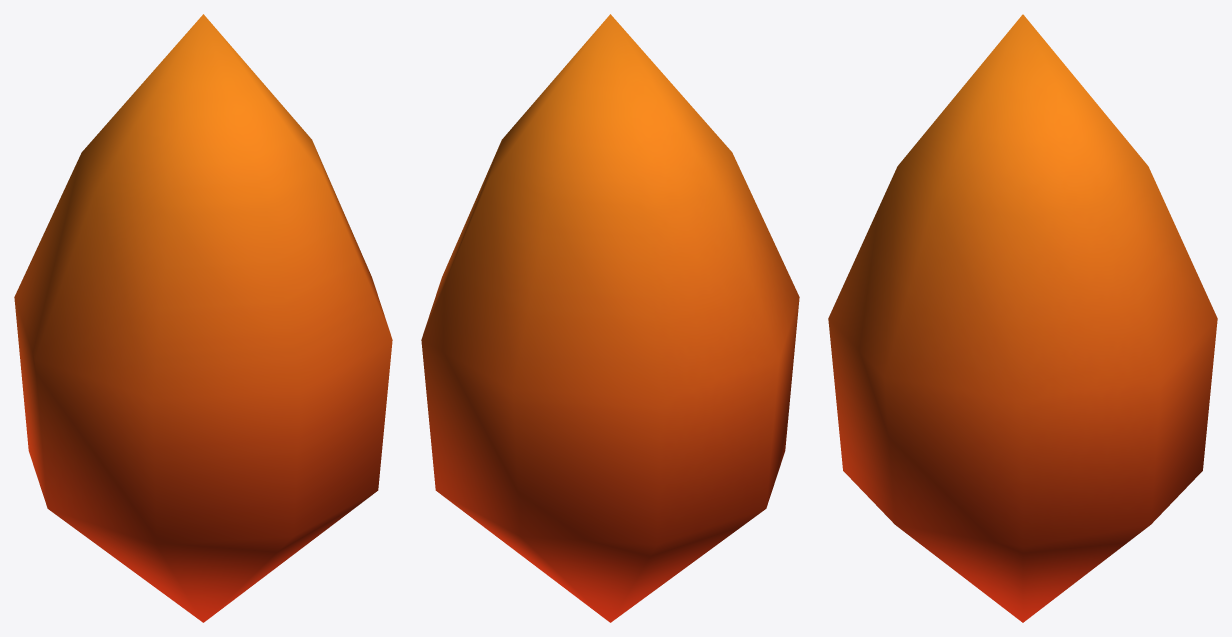
File: mt-fire-lick.fbx
The picture shows the model from 3 angles, left to right: view 1: azimuth 30°, elevation 25°; view 2: azimuth 150°, elevation 25°; view 3: azimuth 270°, elevation 25°; orthographic projection.
Parts seen in each view (by area): view 1: flare; view 2: flare; view 3: flare.
Boxes of the visible parts, box(x1,y1,x2,y2) form: flare: box(14, 14, 392, 622); flare: box(421, 14, 799, 622); flare: box(828, 14, 1217, 622).
Bounding box in the file's own units: 14.23 × 24.56 × 14.23.
Materials: 1 (1 with a texture image).
